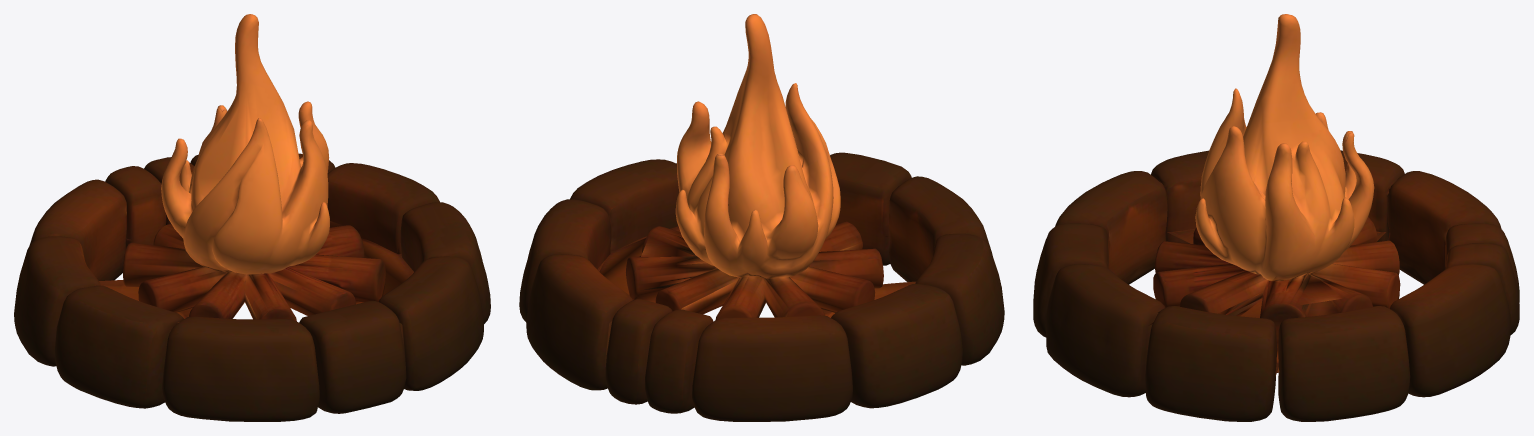
Rendered from Outdoor__a_campfire_pit_2dcbe591_v4.cluster.glb.
3 views of the same model, side by side, from view 1: azimuth 30°, elevation 25°; view 2: azimuth 150°, elevation 25°; view 3: azimuth 270°, elevation 25° (orthographic).
Visible parts, largest first — view 1: material; view 2: material; view 3: material.
Part boxes in pixels (box(x1,y1,x2,y2)): material: box(14, 14, 490, 421); material: box(519, 14, 1004, 421); material: box(1033, 14, 1519, 421).
Bounding box in the file's own units: 1.88 × 1.35 × 1.9.
Materials: 1 (1 with a texture image).
